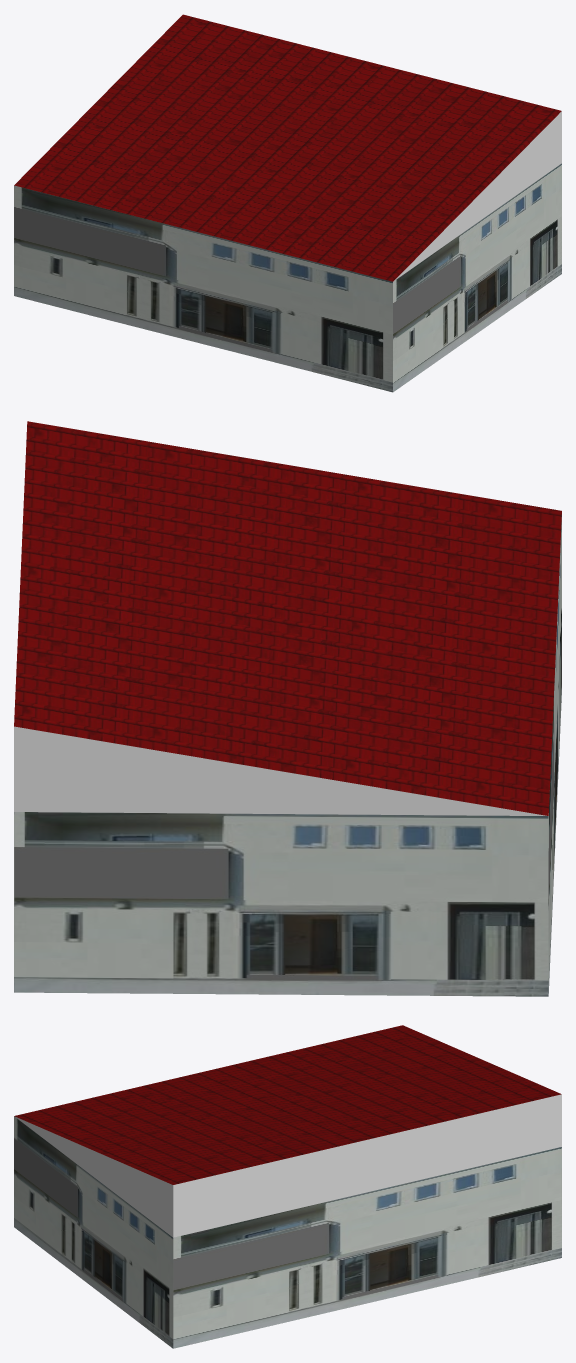
3 views of the same model, one above another, from view 1: azimuth 30°, elevation 25°; view 2: azimuth 150°, elevation 25°; view 3: azimuth 270°, elevation 25° (orthographic). The views are drawn at different scales.
Visible parts, largest first — view 1: CityEngineMaterial_17_m, CityEngineMaterial_11_m, CityEngineMaterial_3_m; view 2: CityEngineMaterial_17_m, CityEngineMaterial_11_m, CityEngineMaterial_3_m; view 3: CityEngineMaterial_11_m, CityEngineMaterial_17_m, CityEngineMaterial_3_m.
Part boxes in pixels (box(x1,y1,x2,y2)): CityEngineMaterial_17_m: box(14, 14, 561, 281); CityEngineMaterial_11_m: box(14, 163, 561, 392); CityEngineMaterial_3_m: box(393, 111, 561, 281); CityEngineMaterial_17_m: box(14, 421, 561, 815); CityEngineMaterial_11_m: box(14, 515, 561, 996); CityEngineMaterial_3_m: box(14, 726, 546, 815); CityEngineMaterial_11_m: box(14, 1116, 561, 1348); CityEngineMaterial_17_m: box(14, 1025, 561, 1184); CityEngineMaterial_3_m: box(14, 1094, 561, 1237).
Size of the model in its own units: 24.88 by 8.93 by 27.11.
